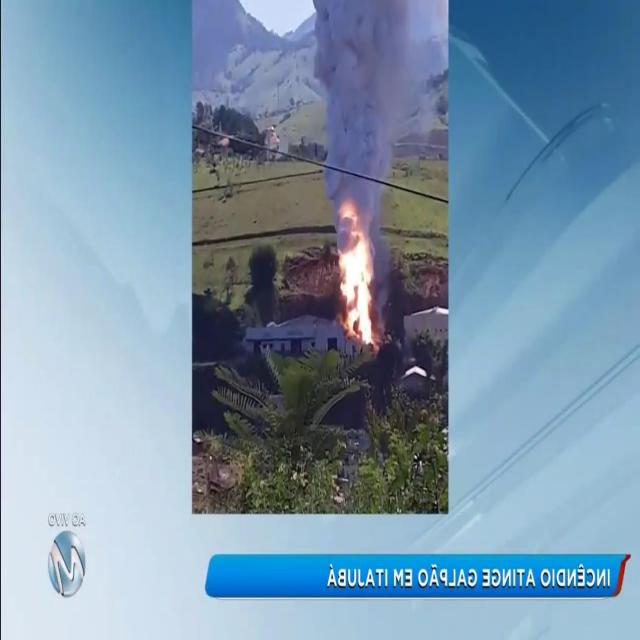fire: (337, 201, 379, 358)
